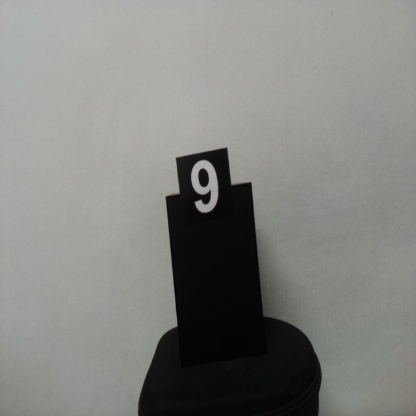id_9: (177, 158, 231, 238)
